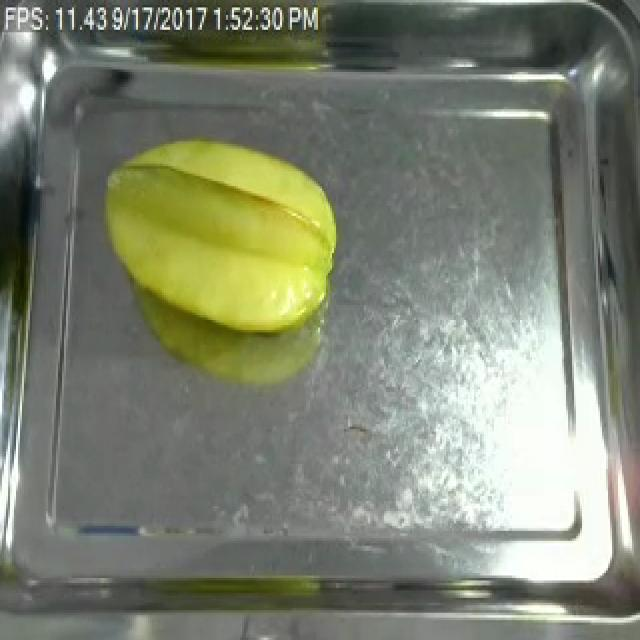fruit: (90, 126, 348, 342)
